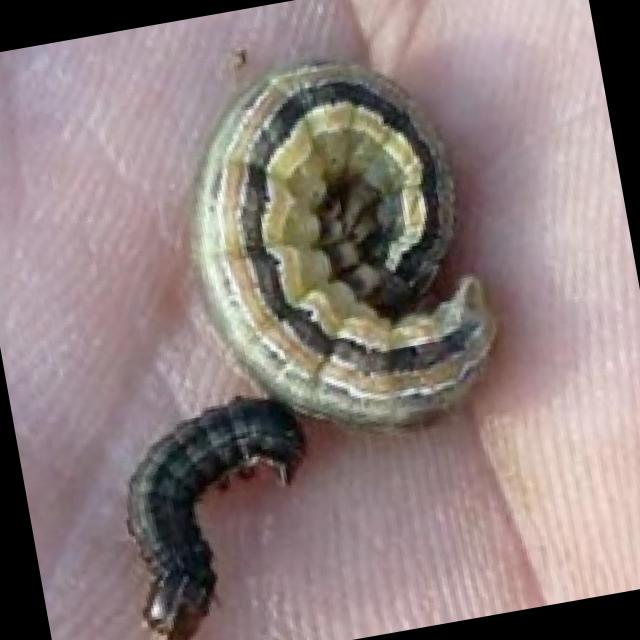armyworm: (149, 24, 543, 467), (82, 373, 348, 640)
